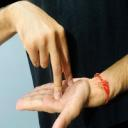hand: (5, 0, 73, 101), (15, 77, 95, 128)
